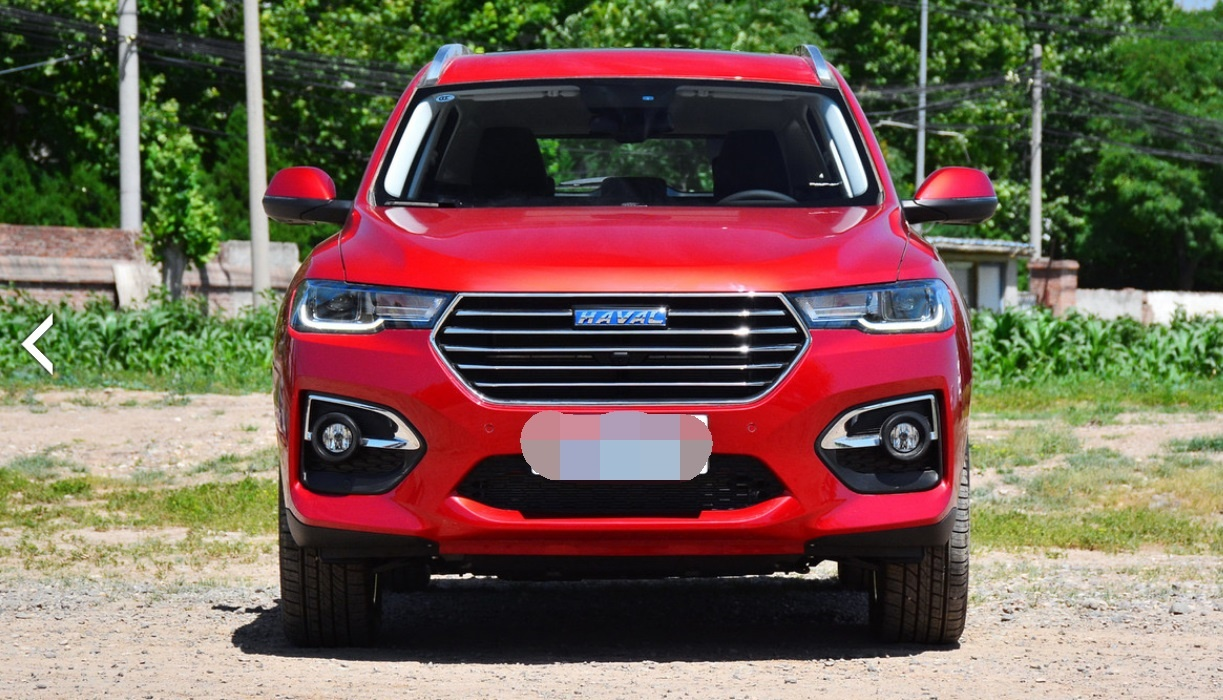SUV: (264, 21, 989, 654)
